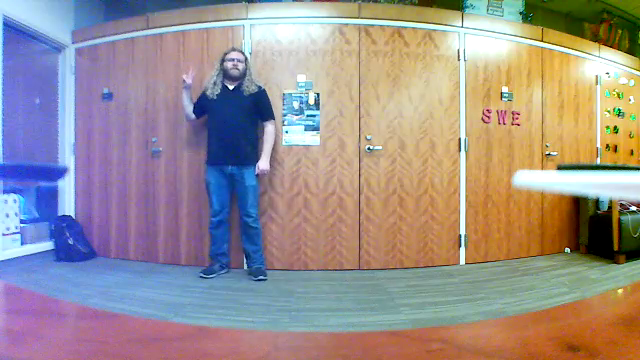peace: (180, 64, 198, 89)
